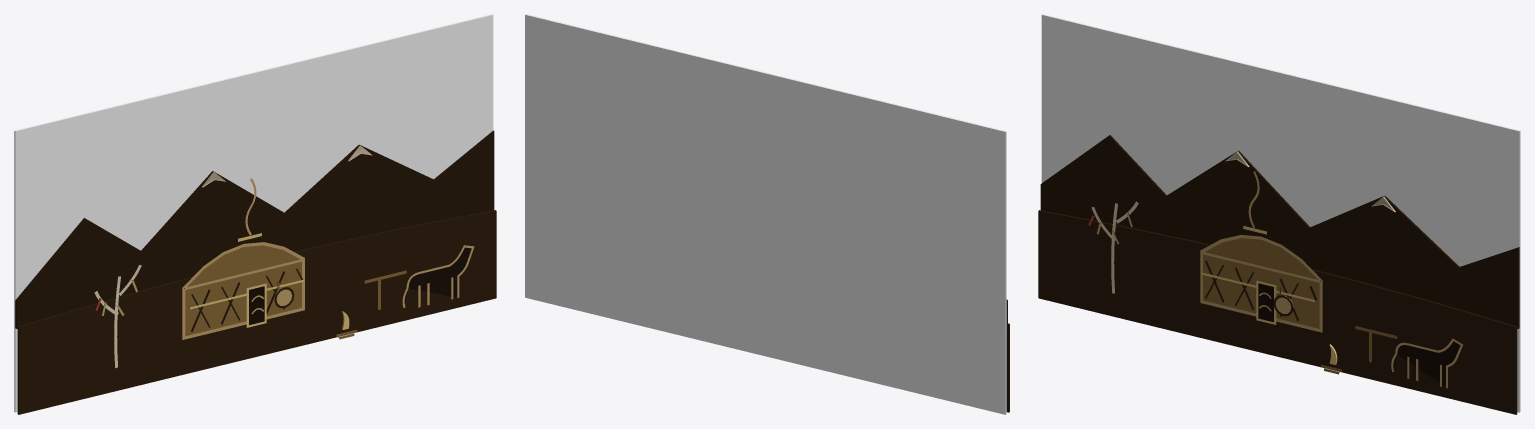
File: loc-yurta-kama.glb
The picture shows the model from 3 angles, left to right: view 1: azimuth 30°, elevation 25°; view 2: azimuth 150°, elevation 25°; view 3: azimuth 330°, elevation 25°; orthographic projection.
Visible parts, largest first — view 1: loc-yurta-kama; view 2: loc-yurta-kama; view 3: loc-yurta-kama.
Part boxes in pixels (bbox=[...]): loc-yurta-kama: bbox=[14, 14, 496, 414]; loc-yurta-kama: bbox=[525, 14, 1009, 414]; loc-yurta-kama: bbox=[1038, 14, 1520, 414].
Size of the model in its own units: 5.33 by 3 by 0.421.
